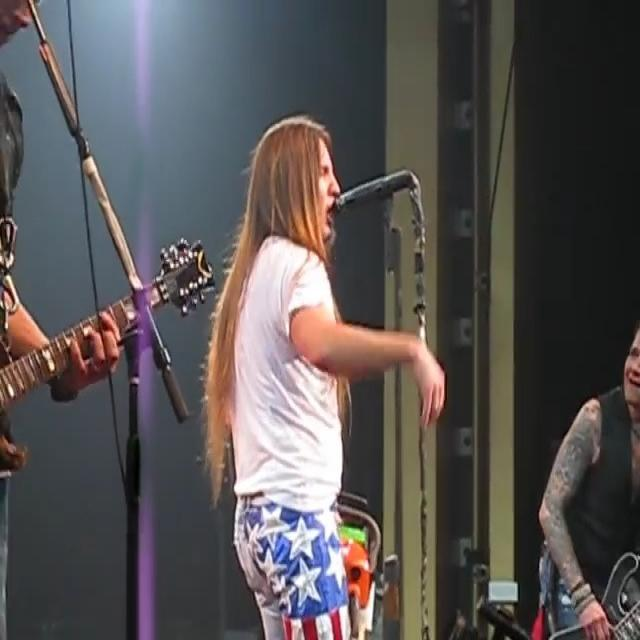Chainsaw: (323, 488, 418, 640)
